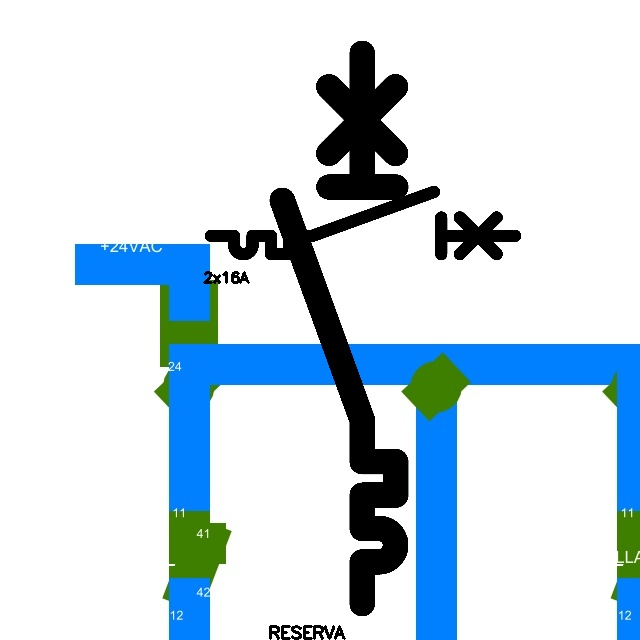interruptor_termomagnetico: (268, 39, 410, 618), (203, 184, 523, 262)
